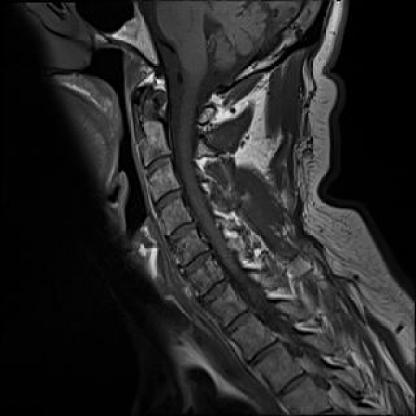Disc Bulgerotation: (163, 222, 202, 241), (177, 254, 218, 272)
Disc Protrusionrotation: (152, 190, 188, 209)
